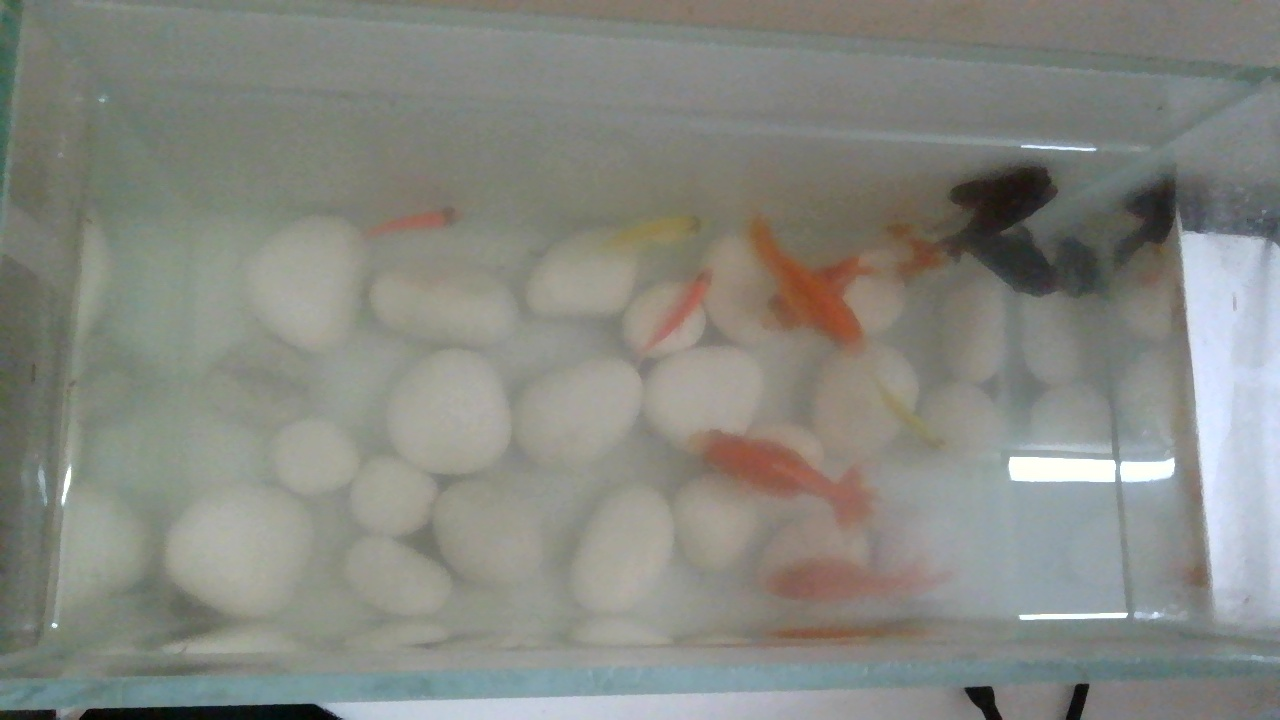fish: (685, 417, 877, 555)
